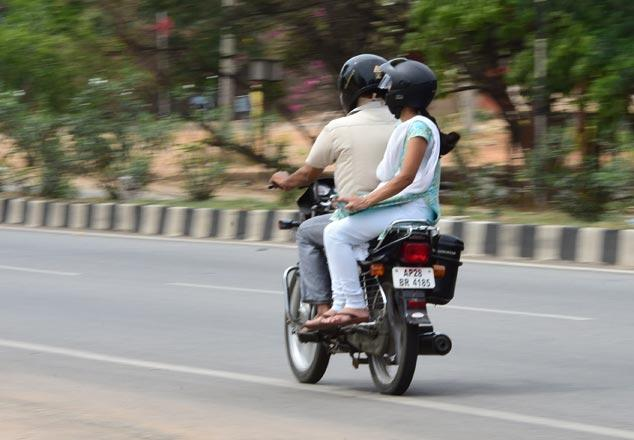helmet: (332, 46, 386, 121), (377, 55, 440, 118)
